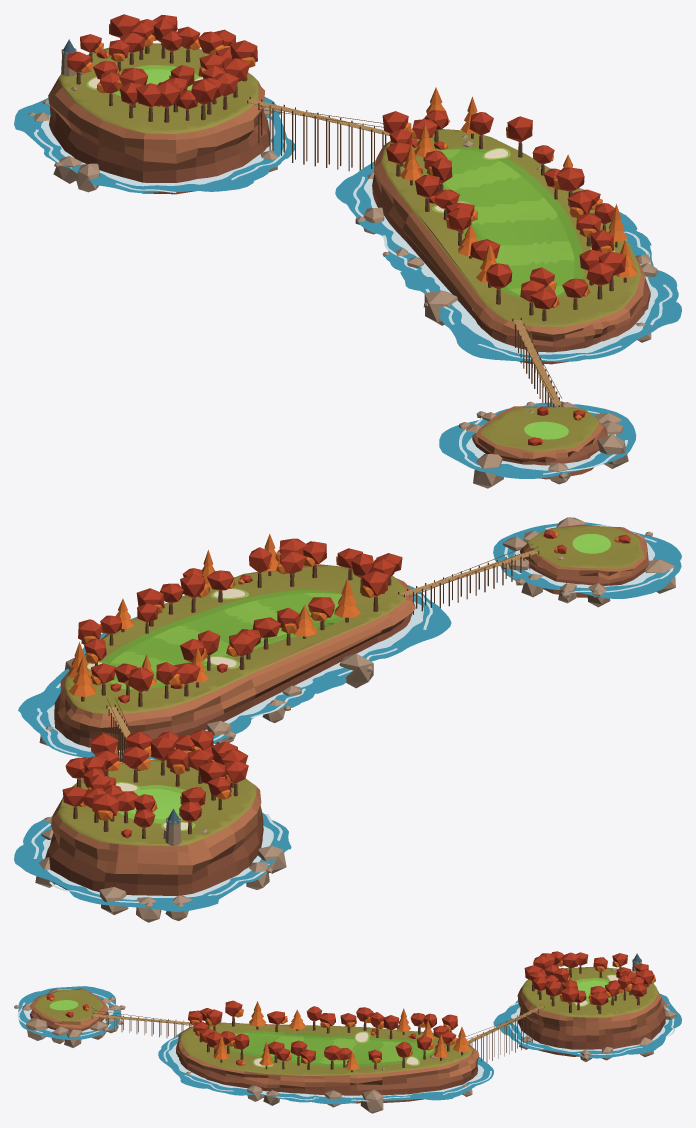
File: hole_18.fbx
3 renders of one model, top to bottom at view 1: azimuth 30°, elevation 25°; view 2: azimuth 150°, elevation 25°; view 3: azimuth 270°, elevation 25°, orthographic. The views are drawn at different scales.
Visible parts, largest first — view 1: TREES, TERRAIN_ISLAND_3, TERRAIN_ISLAND_2, FAIRWAY, WATER_SHALLOW_2, ROCKS, TERRAIN_ISLAND_1, WATER_SHALLOW_3, WATER_SHALLOW_1, BRIDGE_2, WATER_FOAM_2, FAIRWAY_FIRSTCUT (+3 smaller); view 2: TREES, TERRAIN_ISLAND_2, TERRAIN_ISLAND_3, ROCKS, TERRAIN_ISLAND_1, FAIRWAY, WATER_SHALLOW_2, WATER_SHALLOW_3, WATER_SHALLOW_1, BRIDGE_1, FAIRWAY_FIRSTCUT, WATER_FOAM_2 (+5 smaller); view 3: TREES, TERRAIN_ISLAND_2, TERRAIN_ISLAND_3, ROCKS, FAIRWAY, WATER_SHALLOW_2, TERRAIN_ISLAND_1, WATER_SHALLOW_3, WATER_SHALLOW_1, BRIDGE_2, FAIRWAY_FIRSTCUT, BRIDGE_1 (+4 smaller).
Boxes of the visible parts, box(x1,y1,x2,y2) form: TREES: box(67, 14, 637, 445); TERRAIN_ISLAND_3: box(48, 43, 269, 194); TERRAIN_ISLAND_2: box(372, 129, 650, 364); FAIRWAY: box(439, 149, 574, 295); WATER_SHALLOW_2: box(335, 160, 681, 361); ROCKS: box(28, 54, 657, 488); TERRAIN_ISLAND_1: box(472, 406, 607, 479); WATER_SHALLOW_3: box(14, 97, 294, 192); WATER_SHALLOW_1: box(439, 402, 636, 478); BRIDGE_2: box(247, 96, 389, 171); WATER_FOAM_2: box(364, 179, 657, 355); FAIRWAY_FIRSTCUT: box(425, 147, 583, 298); TREES: box(62, 530, 630, 838); TERRAIN_ISLAND_2: box(54, 564, 415, 761); TERRAIN_ISLAND_3: box(45, 759, 263, 895); ROCKS: box(35, 517, 675, 922); TERRAIN_ISLAND_1: box(520, 524, 648, 597); FAIRWAY: box(109, 593, 342, 689); WATER_SHALLOW_2: box(18, 585, 451, 759); WATER_SHALLOW_3: box(14, 812, 291, 911); WATER_SHALLOW_1: box(493, 522, 681, 598); BRIDGE_1: box(398, 544, 539, 614); FAIRWAY_FIRSTCUT: box(101, 590, 344, 689); WATER_FOAM_2: box(47, 601, 423, 751); TREES: box(46, 951, 655, 1072); TERRAIN_ISLAND_2: box(176, 1022, 479, 1103); TERRAIN_ISLAND_3: box(517, 967, 665, 1056); ROCKS: box(14, 969, 676, 1113); FAIRWAY: box(232, 1033, 434, 1064); WATER_SHALLOW_2: box(158, 1032, 493, 1104); TERRAIN_ISLAND_1: box(29, 988, 108, 1031); WATER_SHALLOW_3: box(493, 994, 681, 1058); WATER_SHALLOW_1: box(18, 986, 121, 1039); BRIDGE_2: box(466, 1004, 544, 1062); FAIRWAY_FIRSTCUT: box(225, 1031, 434, 1066); BRIDGE_1: box(91, 1010, 192, 1037).
Size of what is drawn, in the model's own units: 224 by 64.56 by 535.
